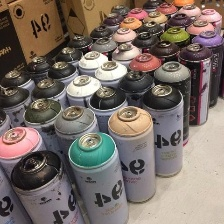aerosol_cans: (0, 114, 65, 224), (65, 127, 135, 224), (7, 147, 87, 223), (52, 100, 112, 199), (105, 103, 158, 205), (19, 94, 74, 185), (139, 80, 189, 180), (83, 82, 135, 174), (0, 79, 50, 165), (173, 40, 216, 131), (152, 56, 194, 149), (29, 75, 74, 160), (61, 71, 109, 149), (1, 67, 48, 140), (50, 44, 91, 125), (43, 57, 90, 126), (116, 66, 156, 146), (22, 52, 64, 127), (189, 27, 224, 113), (89, 57, 131, 126), (146, 36, 183, 113), (125, 49, 165, 119), (191, 5, 224, 86), (108, 25, 144, 94), (184, 17, 217, 92), (74, 49, 112, 112), (86, 21, 119, 90), (157, 23, 190, 91), (130, 30, 164, 96), (62, 30, 95, 98), (108, 42, 144, 103), (89, 34, 123, 98), (162, 9, 195, 70), (99, 8, 126, 77), (136, 17, 164, 83), (117, 14, 146, 77), (171, 0, 204, 54), (152, 0, 180, 53), (143, 7, 166, 59), (123, 4, 148, 51)
